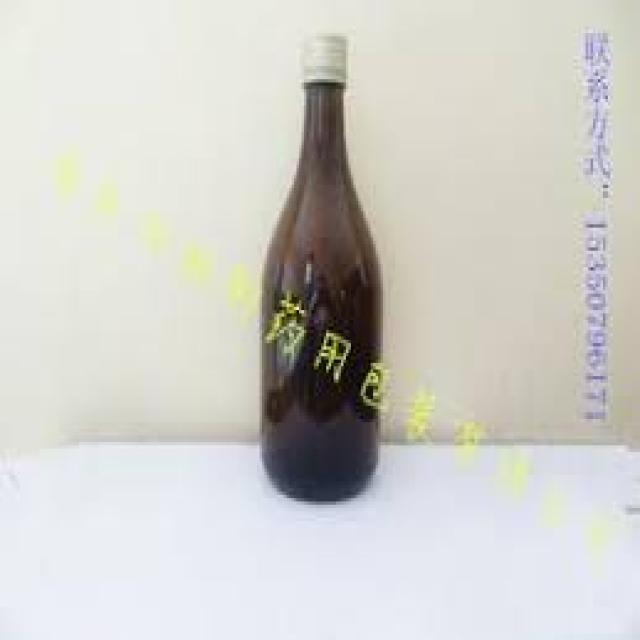Glass: (257, 80, 383, 507)
